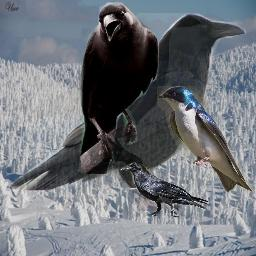Crow: (8, 13, 246, 211), (78, 2, 159, 174), (120, 162, 214, 219)
Swallow: (157, 86, 254, 194)
